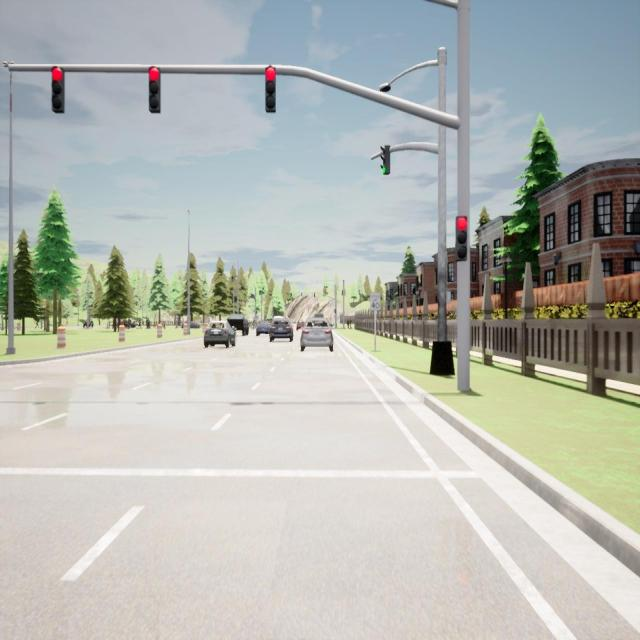Pedestrian: (146, 317, 151, 329), (128, 319, 131, 329), (347, 317, 349, 330), (350, 317, 352, 329)
Traffic_Signs: (370, 294, 380, 310)
Vehicle: (300, 318, 334, 352), (204, 321, 236, 349), (269, 315, 294, 343), (227, 314, 250, 336), (256, 319, 269, 336), (116, 320, 135, 328), (182, 320, 200, 328), (82, 319, 94, 328), (296, 319, 304, 331), (314, 313, 324, 317)
traffic_light: (148, 66, 162, 114), (51, 66, 65, 112), (455, 216, 468, 261), (265, 66, 277, 111), (381, 145, 390, 175), (290, 292, 292, 297), (301, 292, 303, 296), (334, 309, 336, 313), (252, 294, 254, 298), (314, 292, 315, 298), (342, 290, 343, 295), (251, 294, 252, 298), (253, 294, 254, 298)
